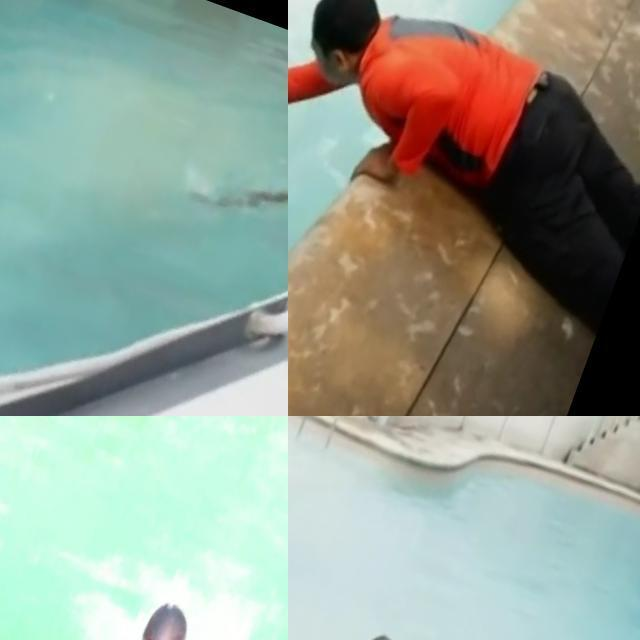3: (68, 553, 246, 640)
drowning: (288, 0, 640, 301)
